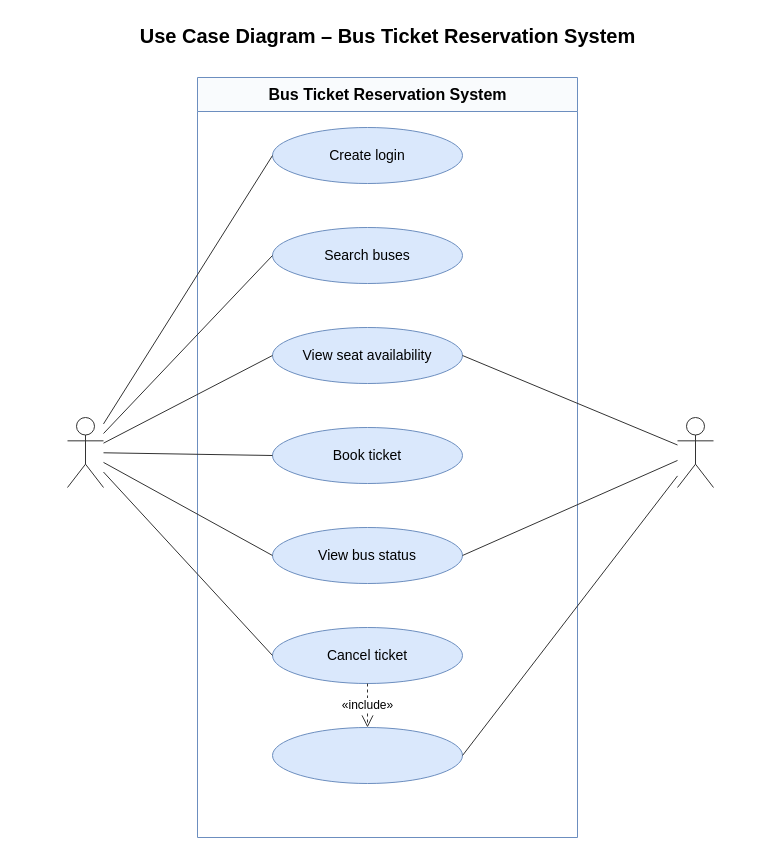
Some shapes in this 774 by 855 pixel diagram are drawn without their labels. Each missing label, with the box of its shape:
Bus Operator: (676, 416, 714, 488)
Calculate refund: (272, 726, 462, 784)
Customer: (66, 416, 104, 488)
